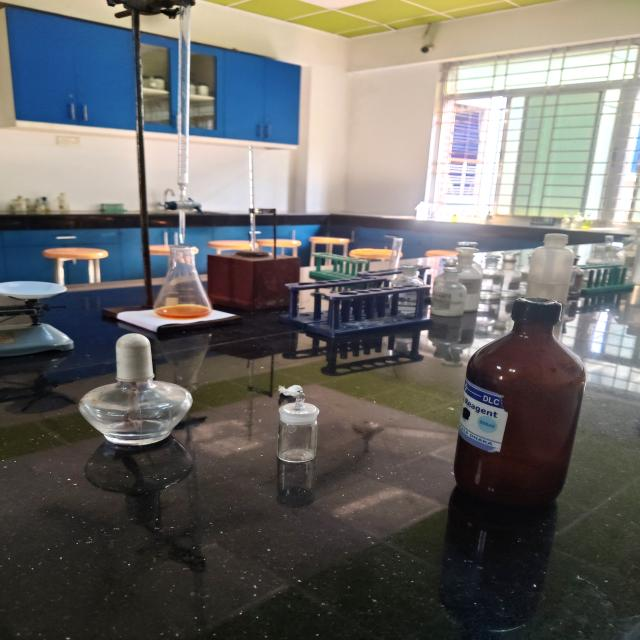Nessler_Reagent_Bottle: (431, 277, 614, 528)
Spirit_Lamp: (60, 323, 213, 466)
Weighing_Bottle: (260, 363, 339, 499)
